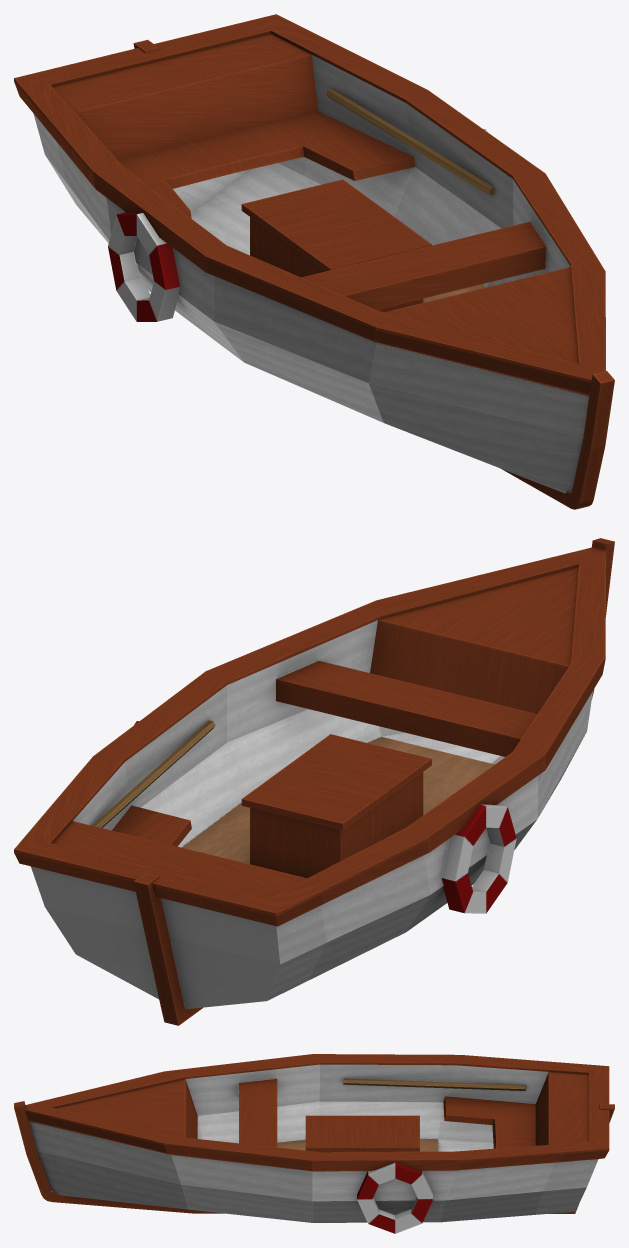
The model's file is a61fd5eb-d209-4ddc-bff2-e9e77a63d7e4.glb.
The picture shows the model from 3 angles, top to bottom: view 1: azimuth 30°, elevation 25°; view 2: azimuth 150°, elevation 25°; view 3: azimuth 270°, elevation 25°; orthographic projection. The views are drawn at different scales.
Parts seen in each view (by area): view 1: Boat_mesh; view 2: Boat_mesh; view 3: Boat_mesh.
Boxes of the visible parts, x1,y1,x2,y2 form: Boat_mesh: (14,14,614,509); Boat_mesh: (14,538,614,1025); Boat_mesh: (14,1054,614,1233).
Size of the model in its own units: 6.82 by 3.13 by 15.72.
1 material, 1 textured.
